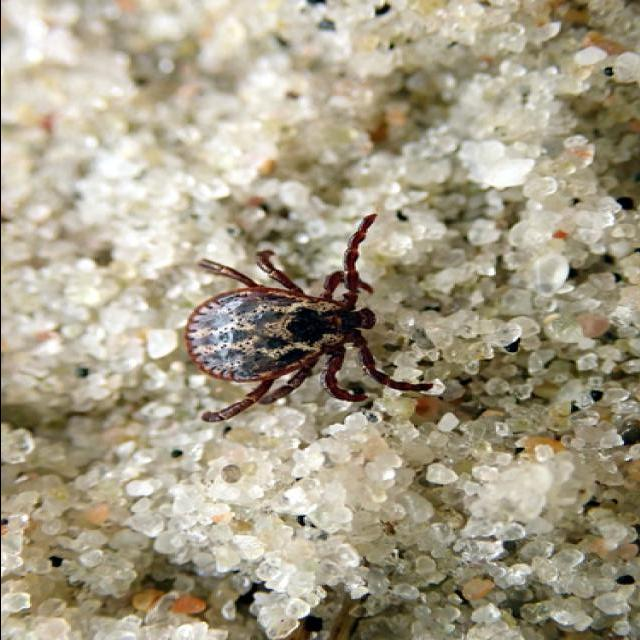Dermacentor Reticulatus-M: (181, 214, 433, 424)
